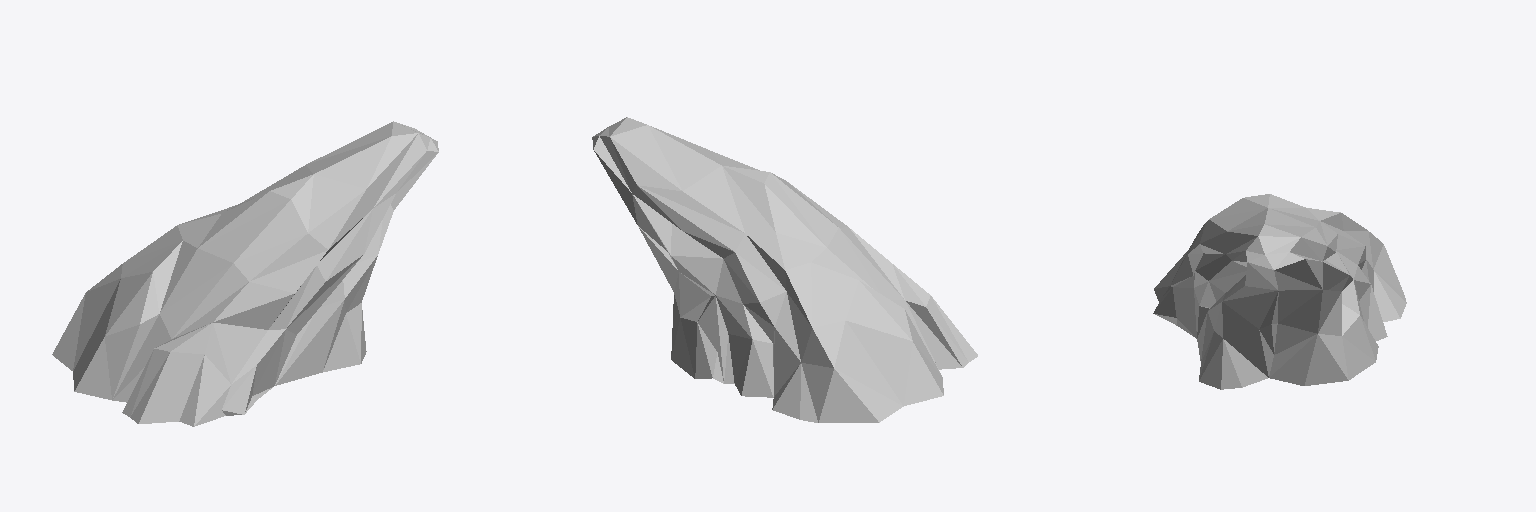
Rendered from rock_004_LOD2.obj.
The picture shows the model from 3 angles: view 1: azimuth 30°, elevation 25°; view 2: azimuth 150°, elevation 25°; view 3: azimuth 270°, elevation 25°; orthographic projection.
Visible parts, largest first — view 1: rock_004_LOD2 rock_004; view 2: rock_004_LOD2 rock_004; view 3: rock_004_LOD2 rock_004.
Part boxes in pixels (bbox=[...]): rock_004_LOD2 rock_004: bbox=[52, 121, 438, 426]; rock_004_LOD2 rock_004: bbox=[592, 117, 977, 422]; rock_004_LOD2 rock_004: bbox=[1153, 194, 1406, 389].
Size of the model in its own units: 1663 by 837 by 1021.